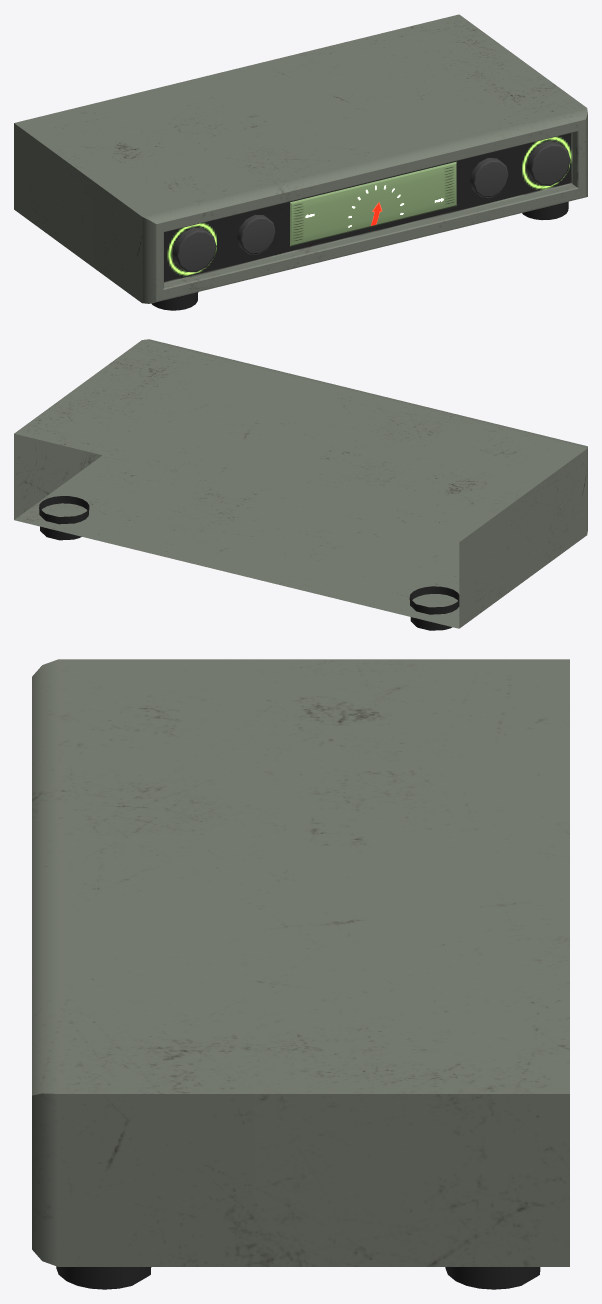
Rendered from Radio 2 text.fbx.
3 renders of one model, top to bottom at view 1: azimuth 30°, elevation 25°; view 2: azimuth 150°, elevation 25°; view 3: azimuth 270°, elevation 25°, orthographic. The views are drawn at different scales.
Parts seen in each view (by area): view 1: radio_b; view 2: radio_b; view 3: radio_b.
Boxes of the visible parts, <box> form: radio_b: <box>14,14,587,310</box>; radio_b: <box>14,339,587,630</box>; radio_b: <box>32,659,569,1289</box>.
Bounding box in the file's own units: 37.21 × 8.29 × 19.46.
Materials: 4 (4 with a texture image).
